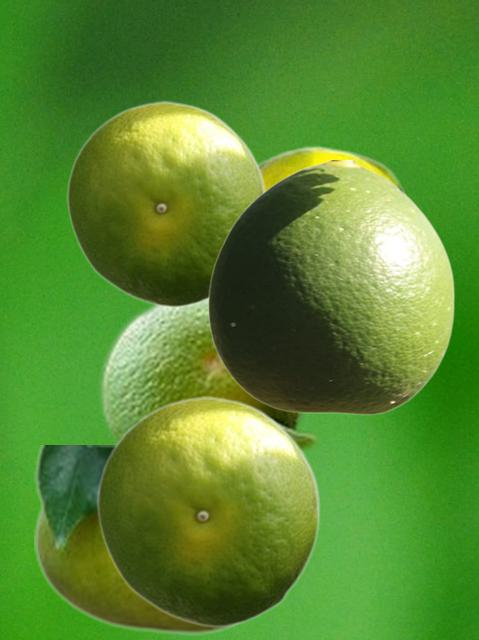dalandan: (207, 160, 454, 414), (96, 395, 319, 627), (66, 100, 265, 307), (34, 445, 246, 634), (97, 302, 320, 453), (259, 145, 406, 193)
